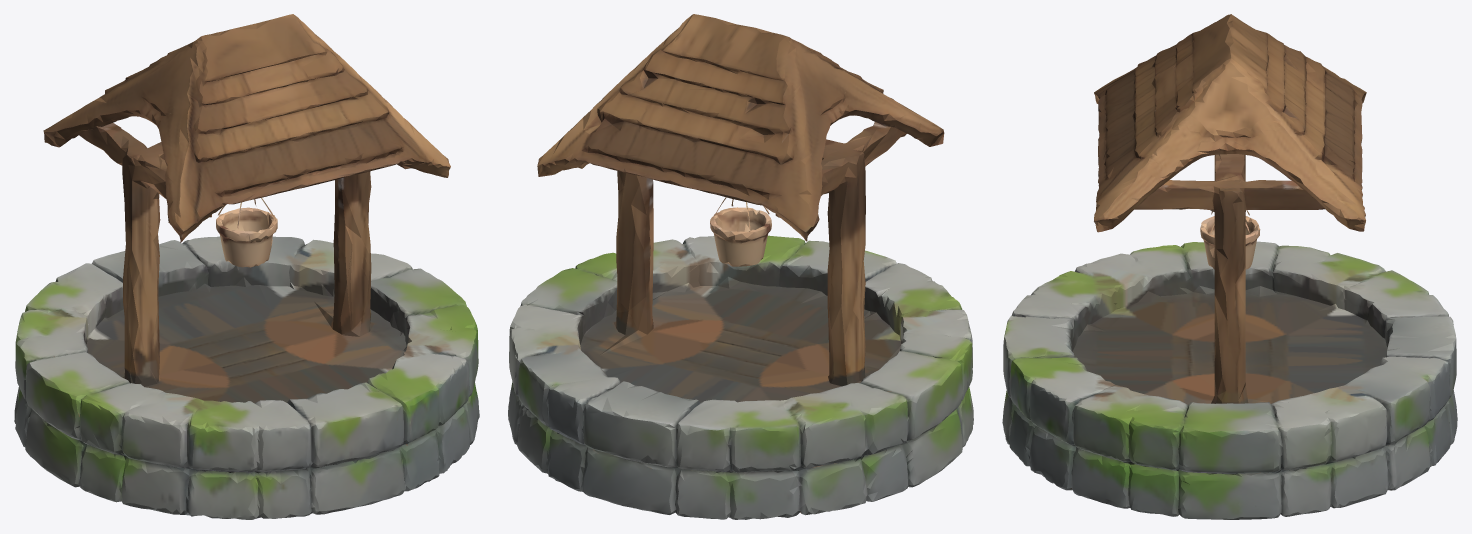
File: rodin_Lab_Well_raw.glb
The picture shows the model from 3 angles, left to right: view 1: azimuth 30°, elevation 25°; view 2: azimuth 150°, elevation 25°; view 3: azimuth 270°, elevation 25°; orthographic projection. The views are drawn at different scales.
Parts seen in each view (by area): view 1: model; view 2: model; view 3: model.
Boxes of the visible parts, x1,y1,x2,y2 form: model: (14, 14, 479, 519); model: (508, 14, 973, 519); model: (1002, 14, 1457, 519).
Bounding box in the file's own units: 1.9 × 1.79 × 1.89.
1 material, 1 textured.
